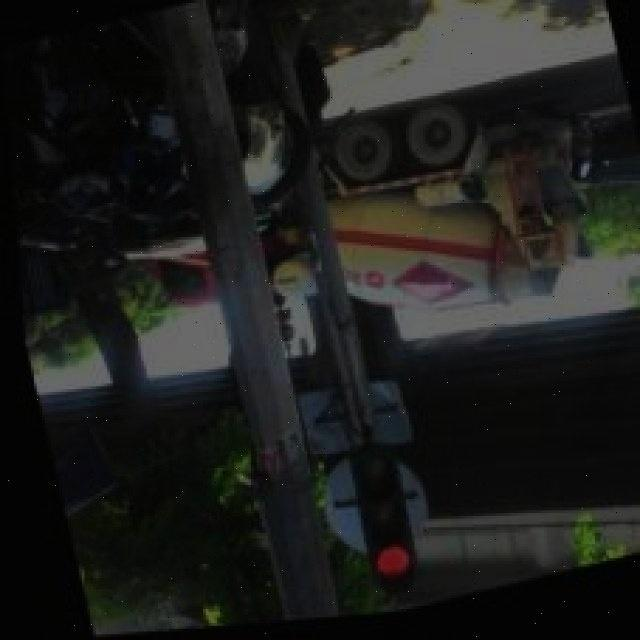Red: (331, 439, 446, 618)
